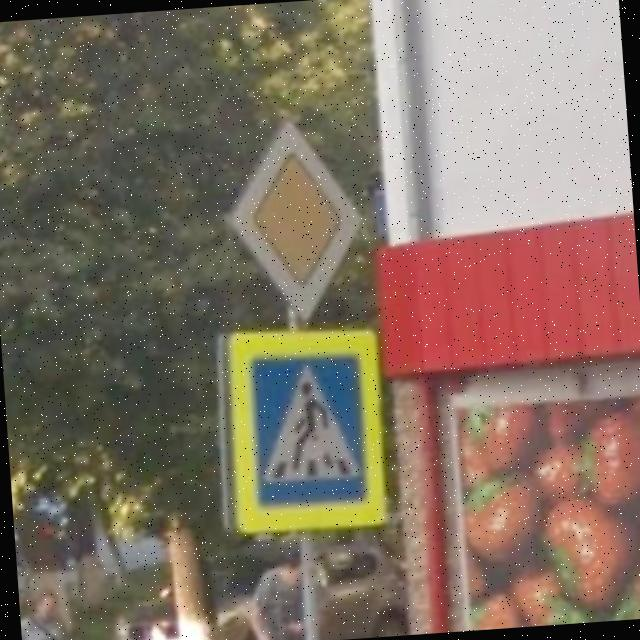Droga z pierwszenstwem: (218, 108, 376, 334)
Przejscie dla pieszych: (216, 316, 394, 542)
